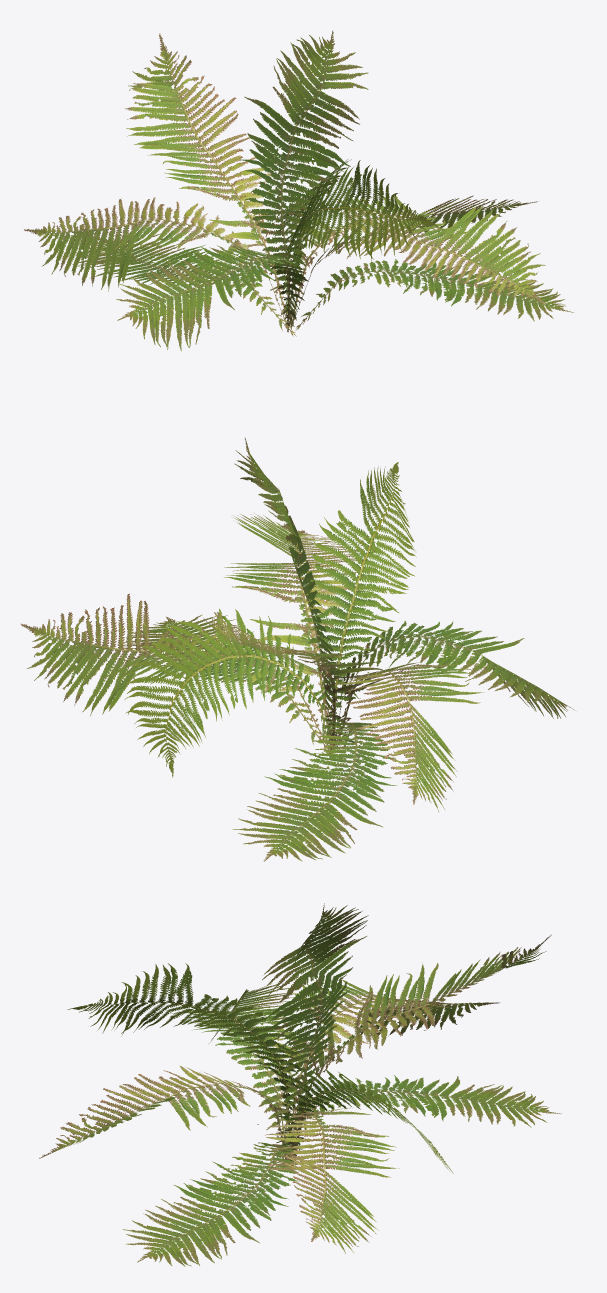
Rendered from sm_Fern_01_02.fbx.
The picture shows the model from 3 angles, top to bottom: view 1: azimuth 30°, elevation 25°; view 2: azimuth 150°, elevation 25°; view 3: azimuth 270°, elevation 25°; orthographic projection. The views are drawn at different scales.
Visible parts, largest first — view 1: sm_Fern_01_02_LOD0; view 2: sm_Fern_01_02_LOD0; view 3: sm_Fern_01_02_LOD0.
Part boxes in pixels (bbox=[...]): sm_Fern_01_02_LOD0: bbox=[24, 30, 573, 351]; sm_Fern_01_02_LOD0: bbox=[21, 437, 574, 861]; sm_Fern_01_02_LOD0: bbox=[39, 903, 561, 1266].
Bounding box in the file's own units: 188 × 178 × 106.
